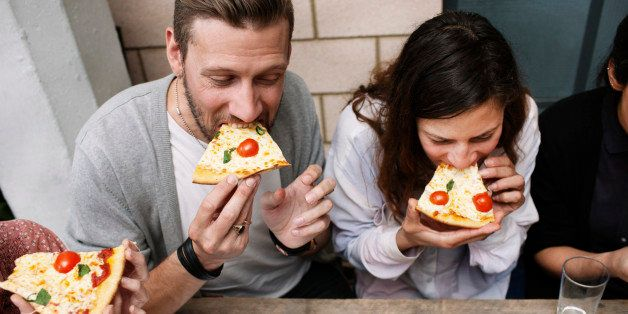eating: (351, 3, 550, 247), (146, 3, 321, 212)
